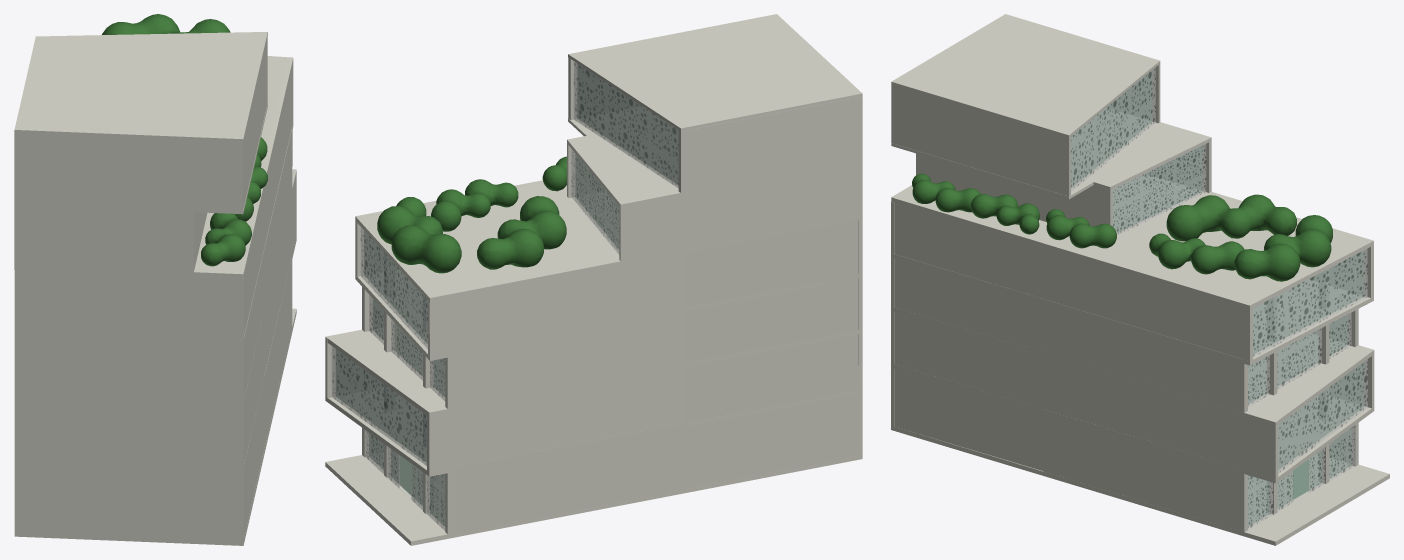
3 renders of one model, left to right at view 1: azimuth 30°, elevation 25°; view 2: azimuth 150°, elevation 25°; view 3: azimuth 270°, elevation 25°, orthographic. The views are drawn at different scales.
Parts seen in each view (by area): view 1: SketchUp.1601, SketchUp.1631, SketchUp.1630, SketchUp.1632, SketchUp.1608, SketchUp.1614, SketchUp.1622, SketchUp.1621, Mball.014, SketchUp.1611, Mball.011, SketchUp.1624 (+3 smaller); view 2: SketchUp.1609, SketchUp.1631, SketchUp.1632, SketchUp.1612, SketchUp.1620, SketchUp.1618, SketchUp.1630, SketchUp.1615, SketchUp.1622, SketchUp.1601, SketchUp.1617, SketchUp.1629 (+24 smaller); view 3: SketchUp.1608, SketchUp.1614, SketchUp.1631, SketchUp.1621, SketchUp.1630, SketchUp.1622, SketchUp.1611, SketchUp.1601, SketchUp.1632, SketchUp.1617, SketchUp.1638, SketchUp.1616 (+26 smaller).
Part boxes in pixels (x1,y1,x2,y2): SketchUp.1601: [14, 270, 296, 545]; SketchUp.1631: [14, 32, 267, 142]; SketchUp.1630: [14, 37, 267, 210]; SketchUp.1632: [14, 201, 207, 272]; SketchUp.1608: [241, 186, 264, 537]; SketchUp.1614: [264, 126, 296, 373]; SketchUp.1622: [14, 56, 287, 279]; SketchUp.1621: [262, 57, 293, 245]; Mball.014: [201, 213, 251, 266]; SketchUp.1611: [264, 264, 291, 446]; Mball.011: [102, 14, 230, 34]; SketchUp.1624: [14, 123, 293, 344]; SketchUp.1609: [684, 220, 858, 488]; SketchUp.1631: [568, 14, 862, 131]; SketchUp.1632: [567, 135, 862, 265]; SketchUp.1612: [456, 423, 683, 532]; SketchUp.1620: [428, 254, 683, 356]; SketchUp.1618: [427, 368, 683, 472]; SketchUp.1630: [568, 57, 862, 192]; SketchUp.1615: [445, 312, 683, 408]; SketchUp.1622: [357, 182, 620, 302]; SketchUp.1601: [325, 219, 862, 545]; SketchUp.1617: [325, 326, 858, 416]; SketchUp.1629: [568, 107, 862, 200]; SketchUp.1608: [894, 198, 1044, 470]; SketchUp.1614: [1043, 299, 1278, 478]; SketchUp.1631: [891, 14, 1160, 137]; SketchUp.1621: [1043, 241, 1252, 361]; SketchUp.1630: [891, 64, 1160, 196]; SketchUp.1622: [891, 174, 1370, 309]; SketchUp.1611: [1043, 413, 1237, 529]; SketchUp.1601: [891, 201, 1389, 545]; SketchUp.1632: [916, 122, 1211, 226]; SketchUp.1617: [894, 307, 1374, 424]; SketchUp.1638: [1252, 249, 1367, 356]; SketchUp.1616: [891, 363, 1374, 483].
Bounding box in the file's own units: 2.44 × 2.16 × 2.8.
Materials: 8 (1 with a texture image).
